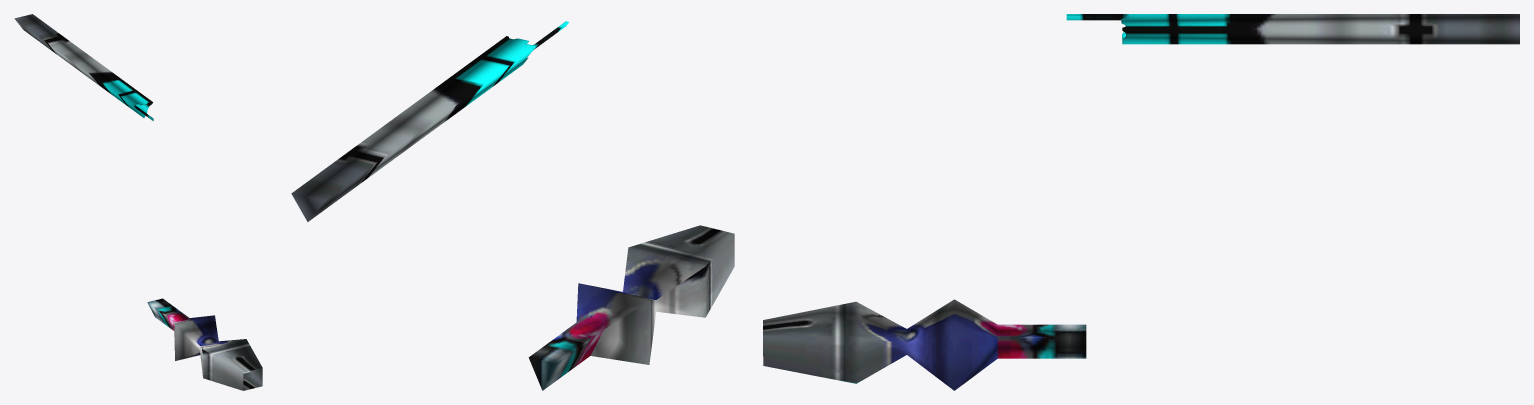
The model's file is applied.obj.
3 views of the same model, side by side, from view 1: azimuth 30°, elevation 25°; view 2: azimuth 150°, elevation 25°; view 3: azimuth 270°, elevation 25° (orthographic). The views are drawn at different scales.
Parts seen in each view (by area): view 1: debug_2, debug_1; view 2: debug_2, debug_1; view 3: debug_2, debug_1.
Part boxes in pixels (box(x1,y1,x2,y2)): debug_2: box(147, 298, 262, 390); debug_1: box(14, 14, 153, 120); debug_2: box(528, 225, 734, 390); debug_1: box(291, 21, 568, 221); debug_2: box(763, 299, 1086, 390); debug_1: box(1066, 14, 1519, 44).
Bounding box in the file's own units: 1.44 × 6.82 × 13.22.
Materials: 1 (1 with a texture image).
